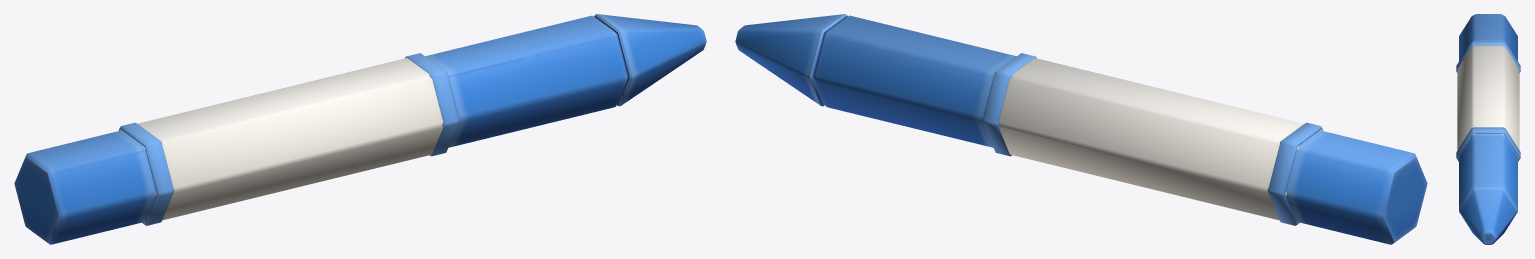
Rendered from toy_crayon_blue.glb.
The picture shows the model from 3 angles, left to right: view 1: azimuth 30°, elevation 25°; view 2: azimuth 150°, elevation 25°; view 3: azimuth 270°, elevation 25°; orthographic projection. The views are drawn at different scales.
Parts seen in each view (by area): view 1: prop; view 2: prop; view 3: prop.
Boxes of the visible parts, x1=… form: prop: x1=14, y1=14, x2=706, y2=244; prop: x1=735, y1=14, x2=1427, y2=244; prop: x1=1456, y1=14, x2=1520, y2=244.
Size of the model in its own units: 7 by 0.8314 by 0.94.
1 material, 1 textured.
